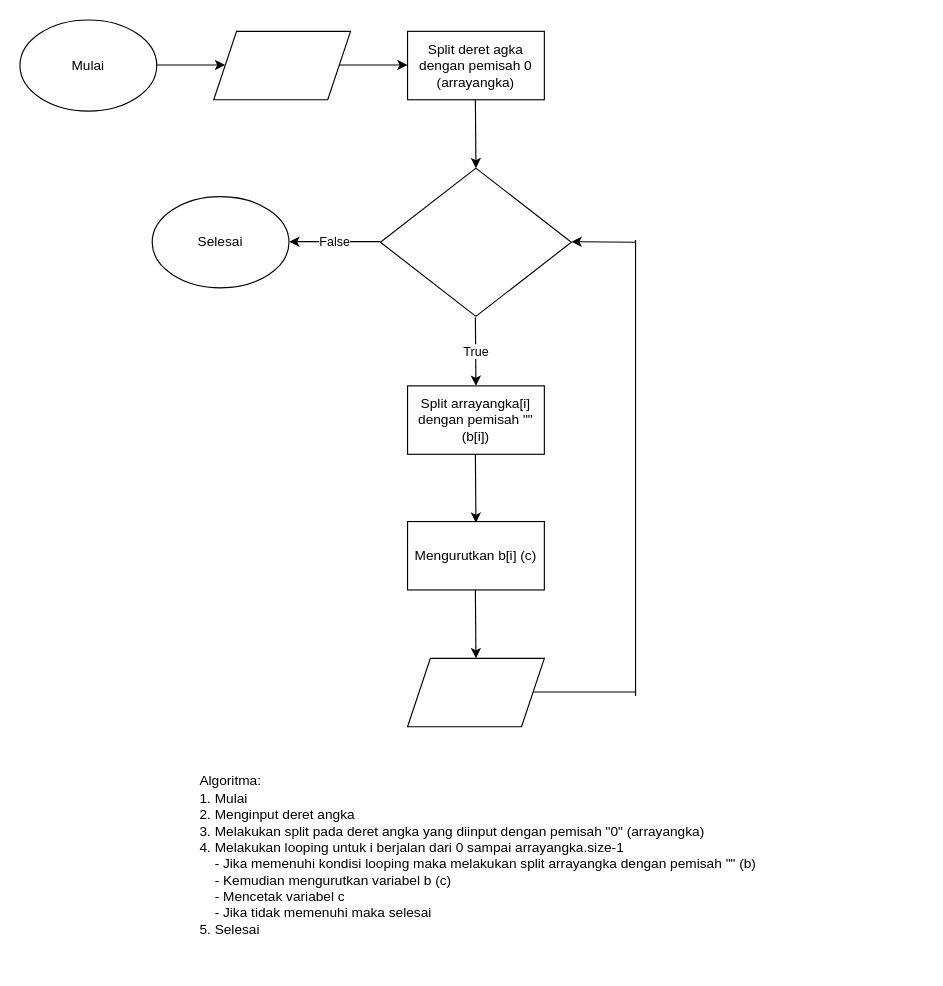
Image size: 943x986. Some labels were removed from this diagram. Here are the shapes that lost their labels. From the top down, the centre of each, then its label:
the point at 282,65: Input deret angka(angka)
the point at 475,241: for (i in 0..arrayangka.size-1)
the point at 475,692: cetak c
